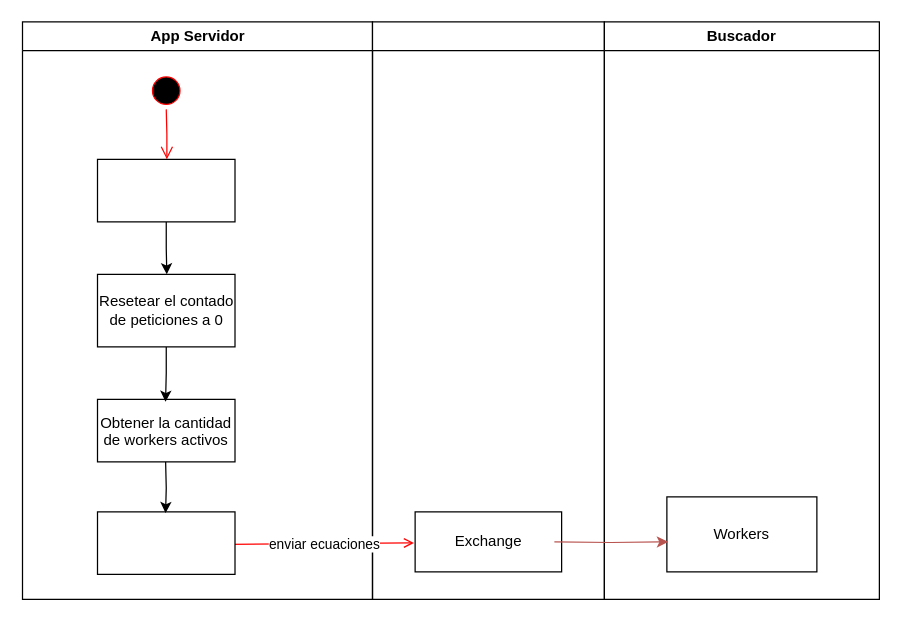
Image size: 901x621. Some labels were removed from this diagram. The shapes that lost their labels are listed below. From the top down, each one's box as (x1, y1, x2, y2) in pixels, then its label:
(96, 158, 235, 222): Buscar las ecuaciones activas
(371, 21, 604, 599): RabbitMQ
(96, 511, 235, 574): Calcular la cantidad de peticiones por ecuación
